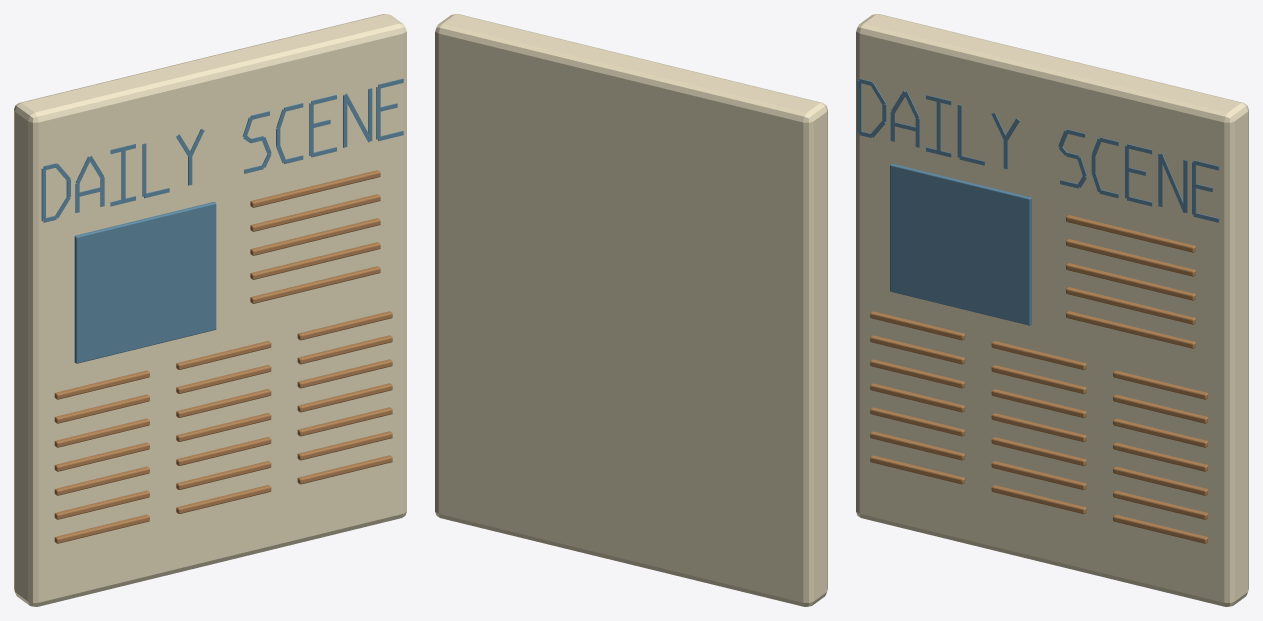
File: P020_newspaper.glb
3 renders of one model, left to right at view 1: azimuth 30°, elevation 25°; view 2: azimuth 150°, elevation 25°; view 3: azimuth 330°, elevation 25°, orthographic.
Visible parts, largest first — view 1: P020_folded_paper_001, P020_photo_003, P020_masthead_002, P020_print_line_025, P020_print_line_027, P020_print_line_029, P020_print_line_026, P020_print_line_028, P020_print_line_004, P020_print_line_006, P020_print_line_005, P020_print_line_007 (+17 smaller); view 2: P020_folded_paper_001; view 3: P020_folded_paper_001, P020_photo_003, P020_masthead_002, P020_print_line_026, P020_print_line_029, P020_print_line_025, P020_print_line_027, P020_print_line_028, P020_print_line_018, P020_print_line_020, P020_print_line_019, P020_print_line_021 (+17 smaller).
Part boxes in pixels (<box>): P020_folded_paper_001: <box>14,14,406,606</box>; P020_photo_003: <box>74,202,216,363</box>; P020_masthead_002: <box>41,78,403,222</box>; P020_print_line_025: <box>250,170,380,207</box>; P020_print_line_027: <box>250,218,380,255</box>; P020_print_line_029: <box>250,266,380,303</box>; P020_print_line_026: <box>250,194,380,231</box>; P020_print_line_028: <box>250,242,380,279</box>; P020_print_line_004: <box>54,370,149,399</box>; P020_print_line_006: <box>54,418,149,447</box>; P020_print_line_005: <box>54,394,149,423</box>; P020_print_line_007: <box>54,442,149,471</box>; P020_folded_paper_001: <box>435,14,827,606</box>; P020_folded_paper_001: <box>856,14,1248,606</box>; P020_photo_003: <box>890,163,1031,325</box>; P020_masthead_002: <box>857,78,1219,222</box>; P020_print_line_026: <box>1066,239,1195,276</box>; P020_print_line_029: <box>1066,311,1195,348</box>; P020_print_line_025: <box>1066,215,1195,252</box>; P020_print_line_027: <box>1066,263,1195,300</box>; P020_print_line_028: <box>1066,287,1195,324</box>; P020_print_line_018: <box>1113,370,1208,399</box>; P020_print_line_020: <box>1113,418,1208,447</box>; P020_print_line_019: <box>1113,394,1208,423</box>; P020_print_line_021: <box>1113,442,1208,471</box>.
Bounding box in the file's own units: 0.28 × 0.35 × 0.0325.
